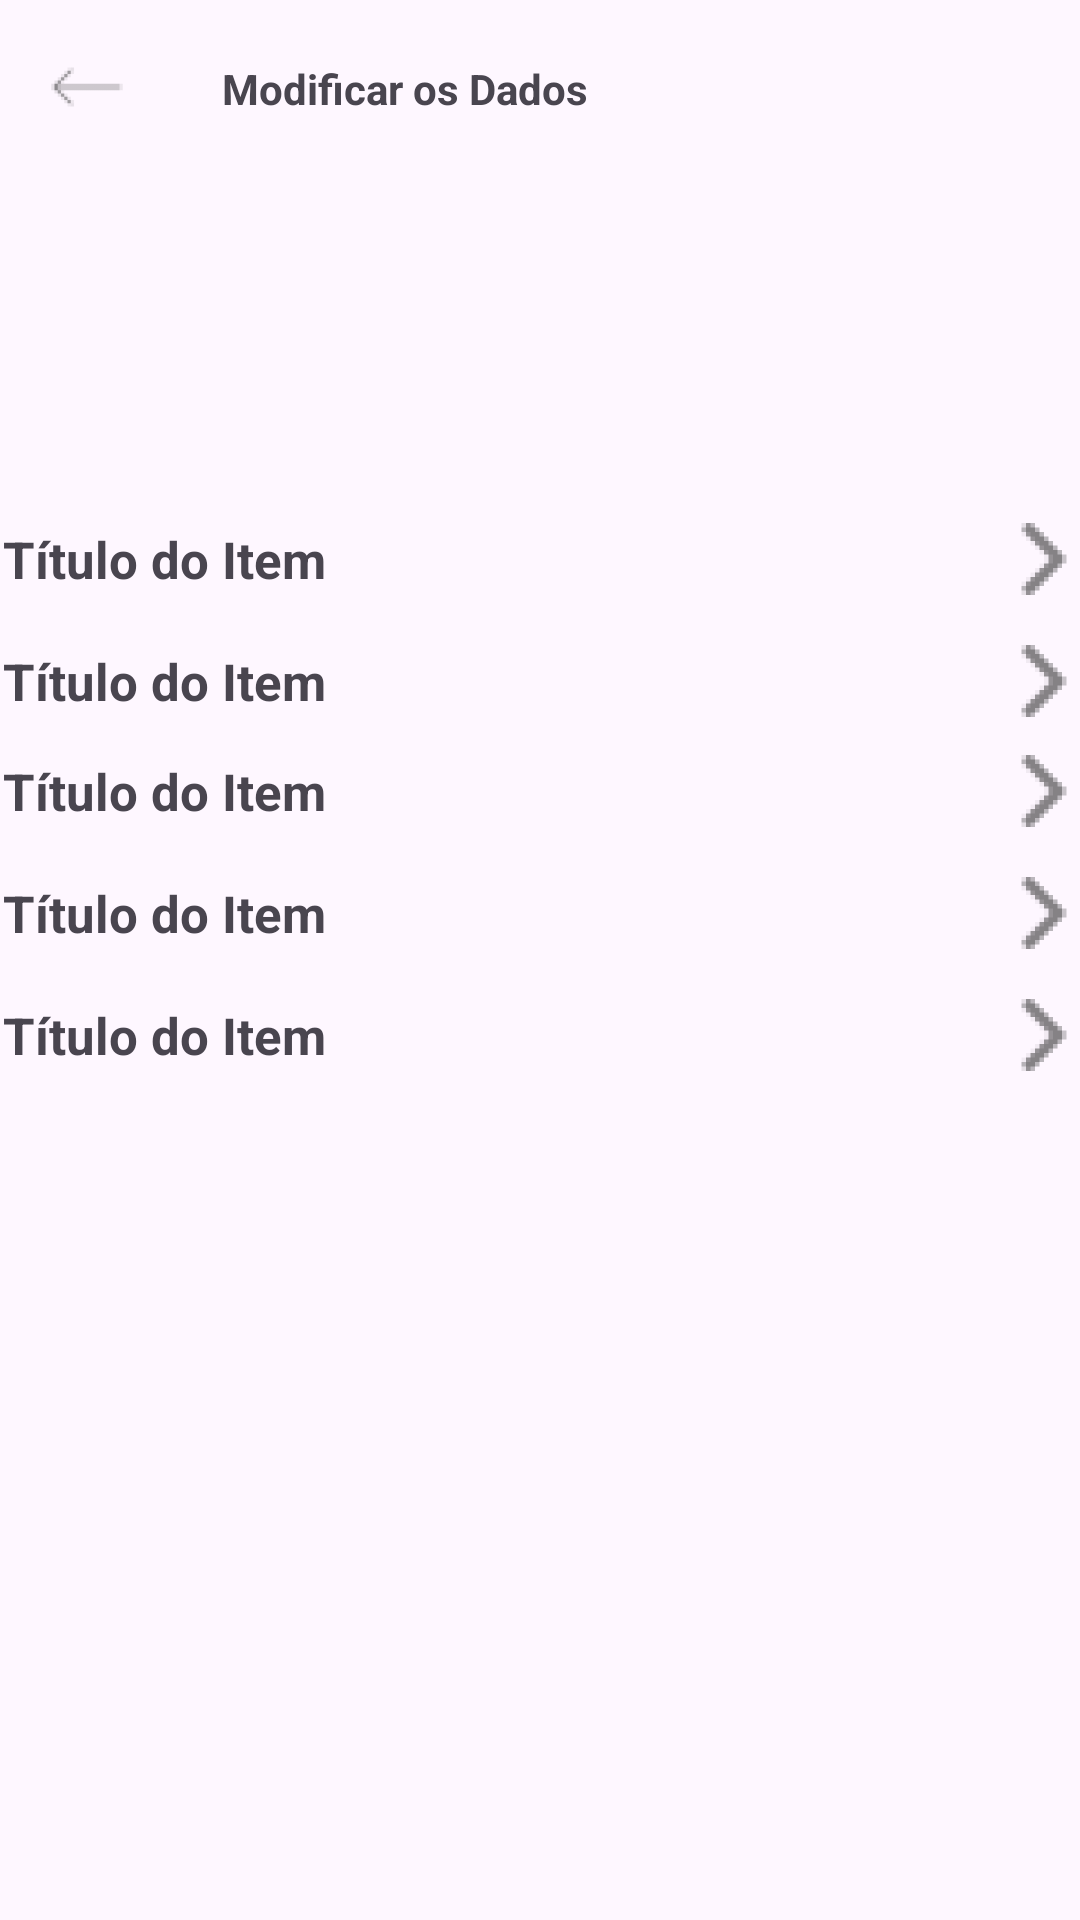

Screen size 1080px×1920px. Icon name, then its center in pixels as [x,y]:
seta direita: [1044,559], [1044,681], [1044,791], [1044,913], [1044,1035]
voltar: [87,87]
